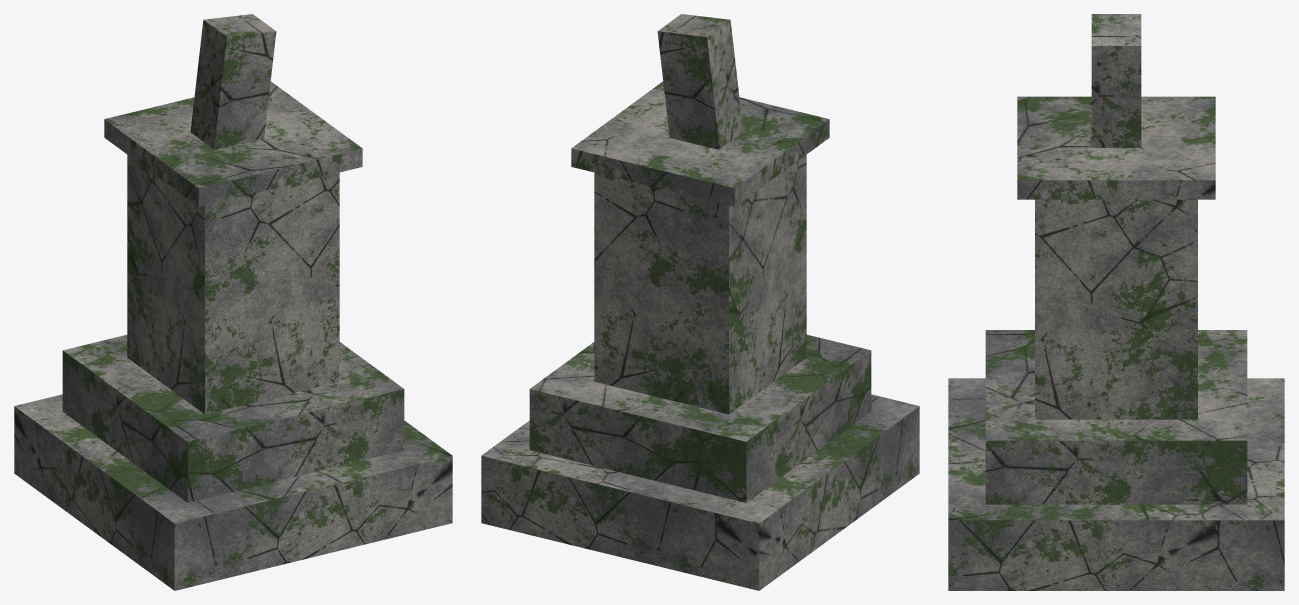
File: pedestal_cross_a.glb
3 views of the same model, side by side, from view 1: azimuth 30°, elevation 25°; view 2: azimuth 150°, elevation 25°; view 3: azimuth 270°, elevation 25° (orthographic). The views are drawn at different scales.
Visible parts, largest first — view 1: pedestal_cross_a; view 2: pedestal_cross_a; view 3: pedestal_cross_a.
Boxes of the visible parts, x1,y1,x2,y2 form: pedestal_cross_a: (14,14,452,590); pedestal_cross_a: (481,14,919,590); pedestal_cross_a: (948,14,1284,590).
Bounding box in the file's own units: 0.95 × 1.55 × 0.95.
1 material, 1 textured.
